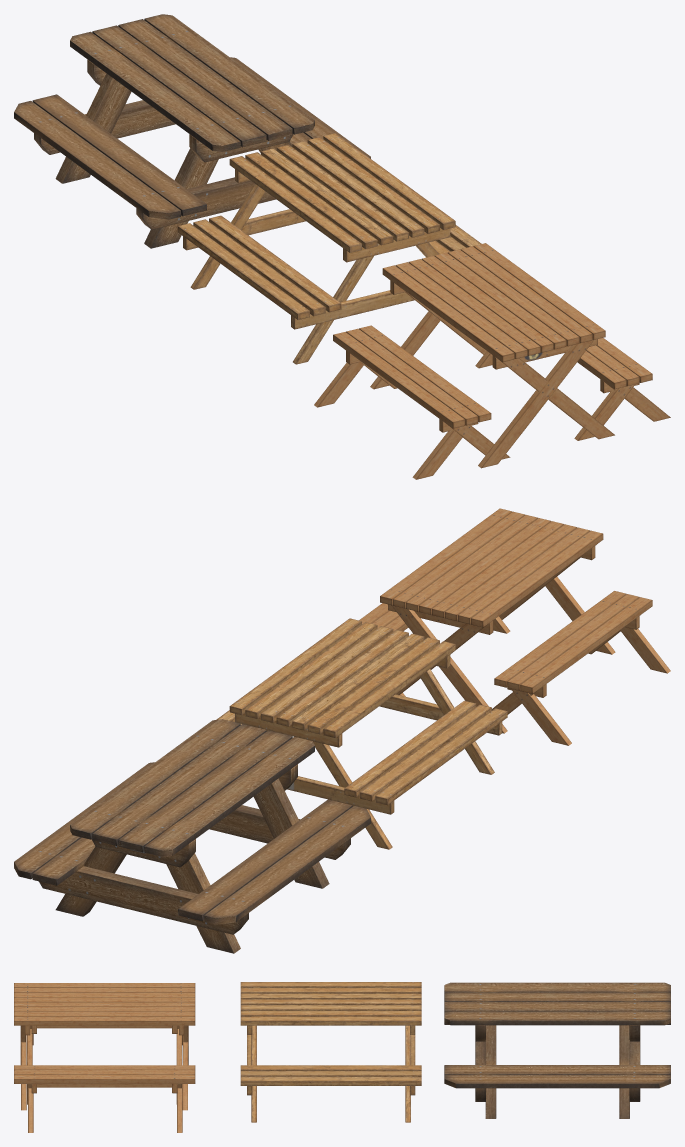
The model's file is wooden_picnic_table_-_set_of_3.glb.
3 renders of one model, top to bottom at view 1: azimuth 30°, elevation 25°; view 2: azimuth 150°, elevation 25°; view 3: azimuth 270°, elevation 25°, orthographic. The views are drawn at different scales.
Parts seen in each view (by area): view 1: TableC_19, TableB_6, TableB_, TableA_7, TableC_13, TableB_1, TableB_2, TableB_3, TableB_5, TableA_10, TableA_8, TableC_7 (+16 smaller); view 2: TableB_6, TableC_19, TableB_, TableA_7, TableB_3, TableB_5, TableB_1, TableB_2, TableC_13, TableA_8, TableC_7, TableA_5 (+16 smaller); view 3: TableB_, TableC_19, TableB_6, TableA_7, TableB_1, TableB_2, TableC_, TableA_6, TableB_5, TableA_3, TableA_, TableA_1 (+15 smaller).
Boxes of the visible parts, <box> form: TableC_19: <box>314,325,670,479</box>; TableB_6: <box>14,57,370,219</box>; TableB_: <box>70,14,314,152</box>; TableA_7: <box>177,215,481,319</box>; TableC_13: <box>370,279,614,468</box>; TableB_1: <box>118,19,292,140</box>; TableB_2: <box>92,25,266,147</box>; TableB_3: <box>34,100,276,229</box>; TableB_5: <box>55,73,292,248</box>; TableA_10: <box>190,184,438,364</box>; TableA_8: <box>183,209,414,329</box>; TableC_7: <box>382,265,514,362</box>; TableB_6: <box>14,762,370,924</box>; TableC_19: <box>359,591,670,745</box>; TableB_: <box>70,719,314,856</box>; TableA_7: <box>216,700,507,805</box>; TableB_3: <box>39,805,350,934</box>; TableB_5: <box>55,778,329,953</box>; TableB_1: <box>92,724,266,845</box>; TableB_2: <box>118,730,292,852</box>; TableC_13: <box>388,544,615,733</box>; TableA_8: <box>287,694,502,814</box>; TableC_7: <box>471,530,603,627</box>; TableA_5: <box>323,641,455,737</box>; TableB_: <box>444,982,670,1025</box>; TableC_19: <box>14,1025,195,1132</box>; TableB_6: <box>444,1023,670,1088</box>; TableA_7: <box>240,1065,421,1085</box>; TableB_1: <box>444,1002,670,1011</box>; TableB_2: <box>444,992,670,1001</box>; TableC_: <box>14,1016,195,1025</box>; TableA_6: <box>240,1016,421,1025</box>; TableB_5: <box>485,1025,629,1118</box>; TableA_3: <box>240,993,421,999</box>; TableA_: <box>240,999,421,1004</box>; TableA_1: <box>240,1005,421,1010</box>.
Size of the model in its own units: 2.04 by 0.8582 by 6.04.
Materials: 3 (3 with a texture image).
